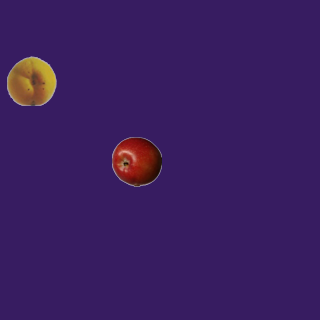Apple Braeburn: (111, 136, 161, 186)
Peach 2: (6, 55, 56, 105)
